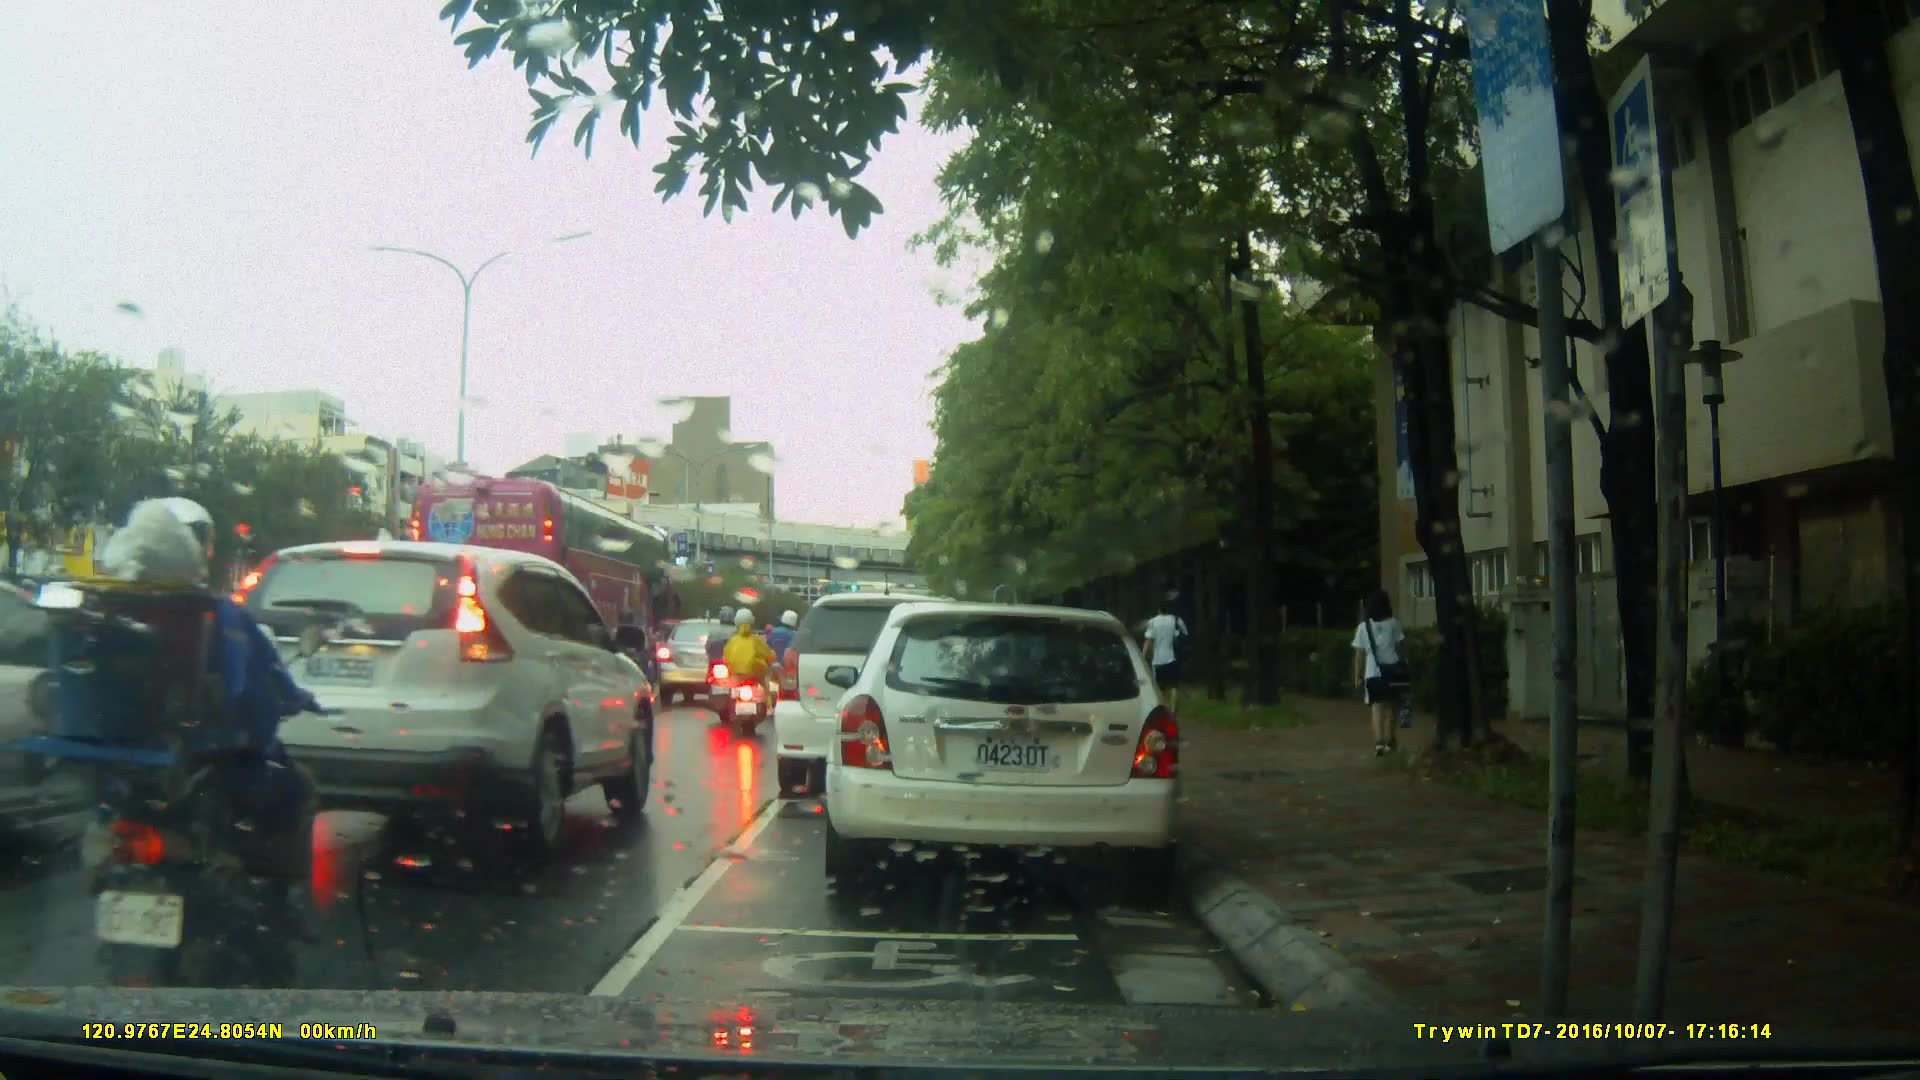pedestrian: (1338, 582, 1421, 773), (1141, 591, 1190, 721)
rider: (25, 497, 323, 1016), (720, 607, 771, 739), (700, 600, 751, 719), (767, 605, 808, 709)
vehicle: (214, 540, 662, 862), (835, 594, 1194, 898), (400, 478, 687, 677), (776, 590, 1026, 784), (652, 616, 764, 704)
